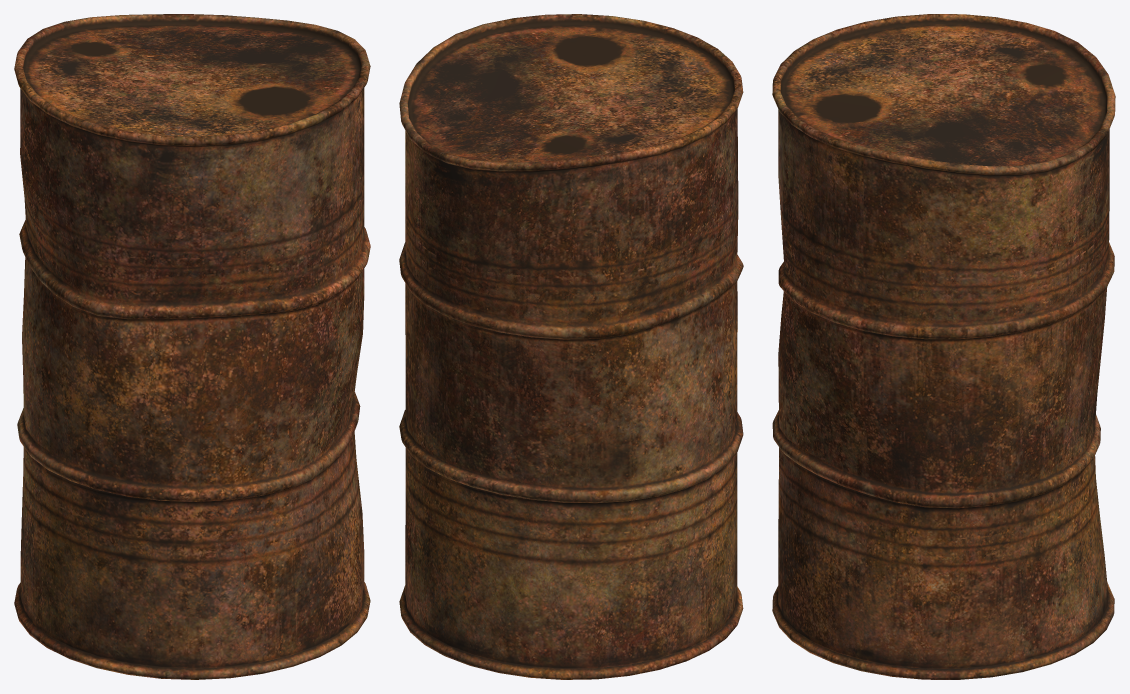
File: Barrel_0.glb
3 renders of one model, left to right at view 1: azimuth 30°, elevation 25°; view 2: azimuth 150°, elevation 25°; view 3: azimuth 270°, elevation 25°, orthographic. The views are drawn at different scales.
Parts seen in each view (by area): view 1: Barrel5_low.002_Metal5_0; view 2: Barrel5_low.002_Metal5_0; view 3: Barrel5_low.002_Metal5_0.
Boxes of the visible parts, x1=… form: Barrel5_low.002_Metal5_0: x1=14, y1=14, x2=370, y2=679; Barrel5_low.002_Metal5_0: x1=399, y1=14, x2=743, y2=679; Barrel5_low.002_Metal5_0: x1=772, y1=14, x2=1115, y2=679.
Bounding box in the file's own units: 0.4112 × 0.6895 × 0.41.
Materials: 1 (1 with a texture image).
